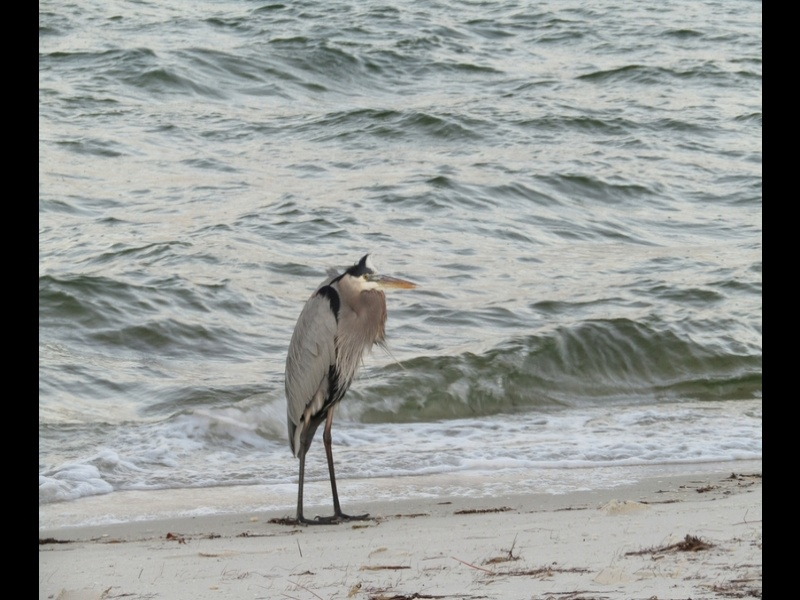heron: (279, 251, 422, 527)
